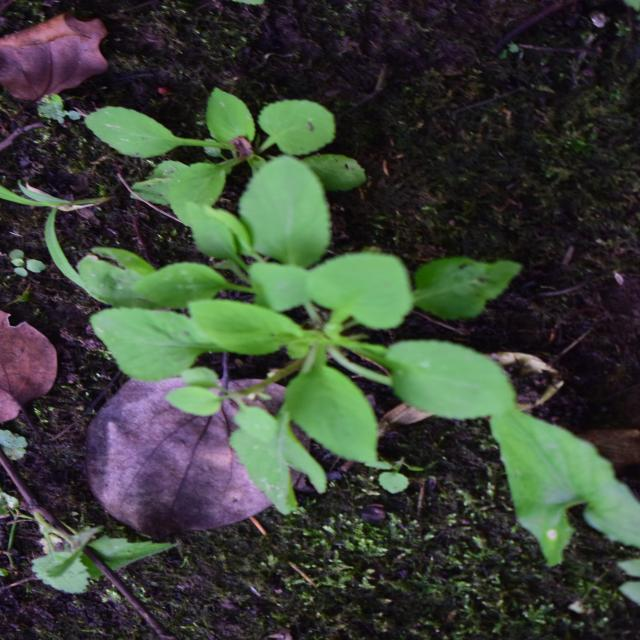Viola: (167, 87, 458, 528), (423, 91, 557, 387)
